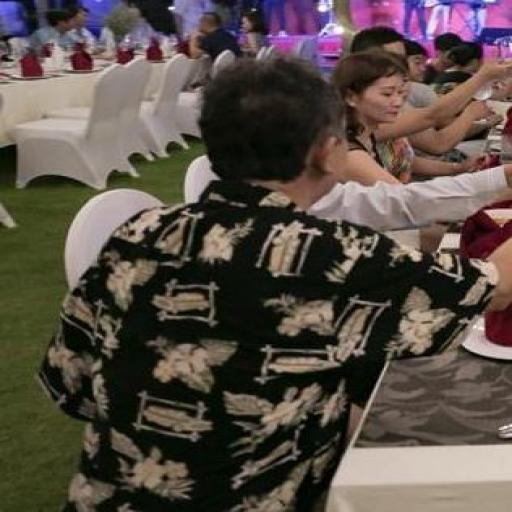person: (39, 60, 511, 511), (334, 52, 484, 184), (433, 42, 482, 94), (188, 13, 241, 60), (425, 33, 463, 84), (30, 10, 76, 52), (174, 0, 213, 40), (242, 10, 268, 56), (70, 6, 97, 49), (427, 0, 452, 38), (404, 0, 426, 40), (263, 0, 286, 36)
